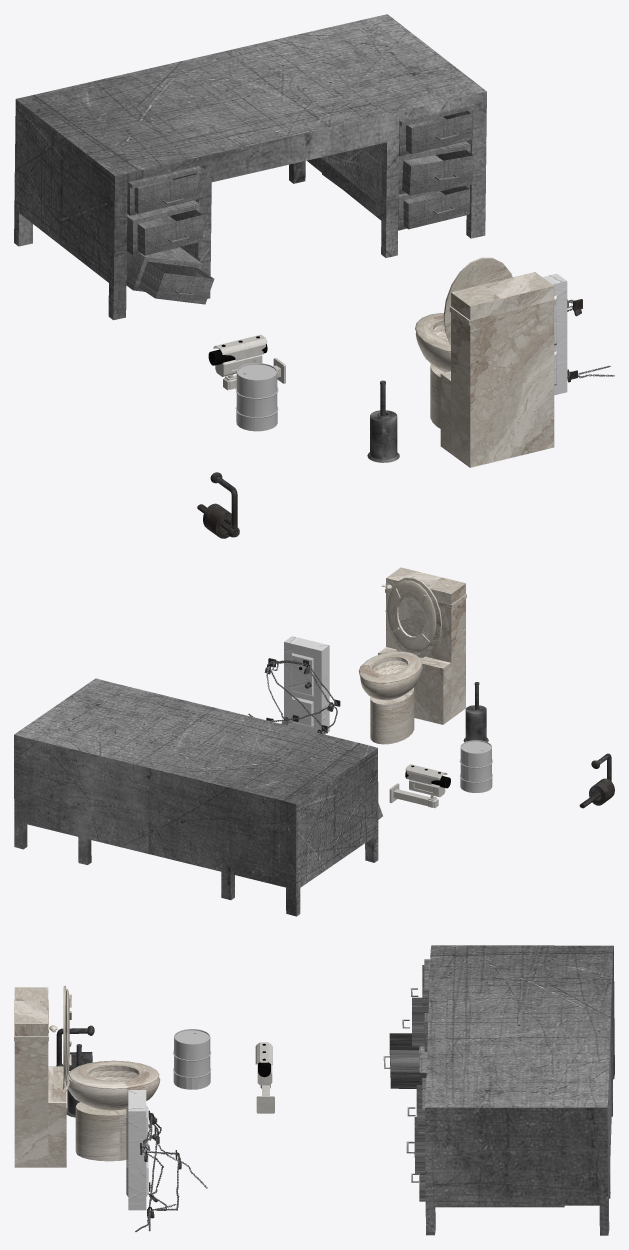
The model's file is opject.fbx.
3 views of the same model, one above another, from view 1: azimuth 30°, elevation 25°; view 2: azimuth 150°, elevation 25°; view 3: azimuth 270°, elevation 25° (orthographic). The views are drawn at different scales.
Visible parts, largest first — view 1: polySurface152, polySurface331, polySurface52, polySurface1535, polySurface1522, polySurface159, polySurface1534; view 2: polySurface152, polySurface331, polySurface1535, polySurface52, polySurface1522, polySurface159, polySurface1534; view 3: polySurface152, polySurface331, polySurface1535, polySurface52, polySurface1522, polySurface1534.
Part boxes in pixels (x1,y1,x2,y2): polySurface152: (14, 14, 486, 320); polySurface331: (415, 257, 555, 467); polySurface52: (235, 363, 278, 431); polySurface1535: (542, 273, 614, 395); polySurface1522: (208, 334, 285, 390); polySurface159: (367, 380, 399, 462); polySurface1534: (197, 472, 239, 538); polySurface152: (14, 678, 382, 916); polySurface331: (358, 567, 466, 744); polySurface1535: (248, 636, 340, 734); polySurface52: (459, 740, 492, 792); polySurface1522: (389, 764, 450, 807); polySurface159: (463, 682, 488, 742); polySurface1534: (579, 753, 614, 808); polySurface152: (383, 945, 614, 1235); polySurface331: (14, 986, 160, 1167); polySurface1535: (126, 1090, 207, 1231); polySurface52: (173, 1029, 211, 1089); polySurface1522: (255, 1042, 274, 1113); polySurface1534: (56, 1025, 94, 1070).
Size of the model in its own units: 26.72 by 11.89 by 32.95.
